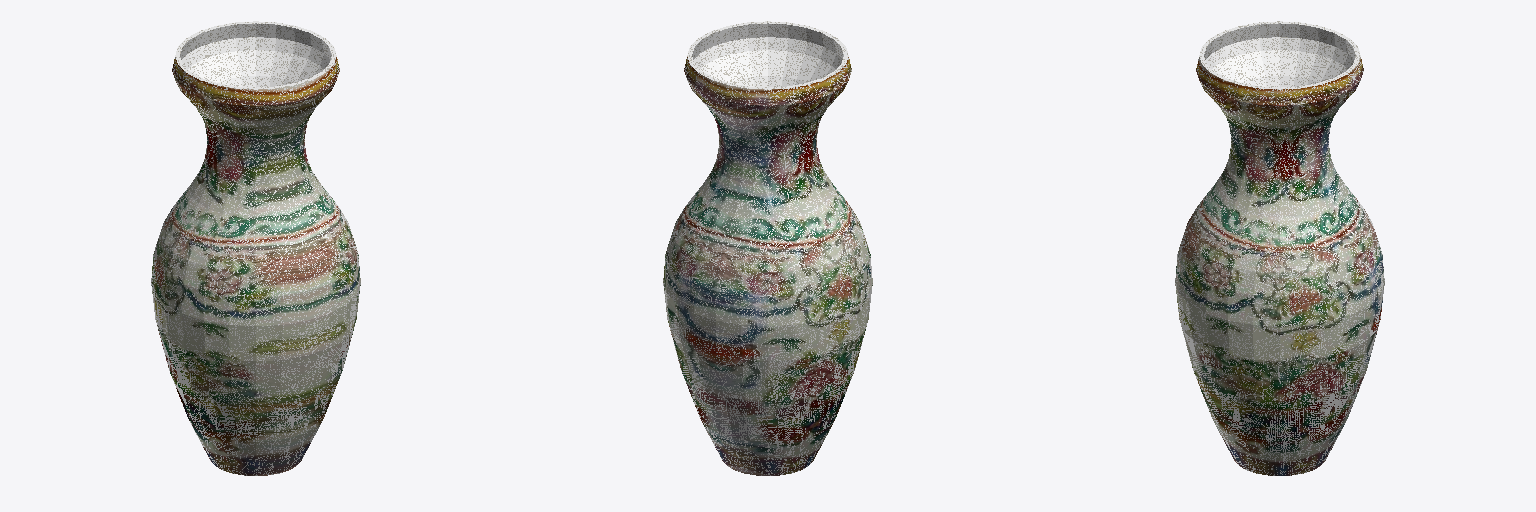
The picture shows the model from 3 angles: view 1: azimuth 30°, elevation 25°; view 2: azimuth 150°, elevation 25°; view 3: azimuth 270°, elevation 25°; orthographic projection.
Visible parts, largest first — view 1: mesh2_mesh2-geometry, mesh1_mesh1-geometry; view 2: mesh2_mesh2-geometry, mesh1_mesh1-geometry; view 3: mesh1_mesh1-geometry, mesh2_mesh2-geometry.
Part boxes in pixels (x1,y1,x2,y2): mesh2_mesh2-geometry: (151,26,307,475); mesh1_mesh1-geometry: (216,21,360,473); mesh2_mesh2-geometry: (716,26,872,475); mesh1_mesh1-geometry: (663,21,807,473); mesh1_mesh1-geometry: (1175,56,1384,475); mesh2_mesh2-geometry: (1179,21,1380,247).
Size of the model in its own units: 0.3938 by 0.8306 by 0.3938.
Materials: 3 (1 with a texture image).